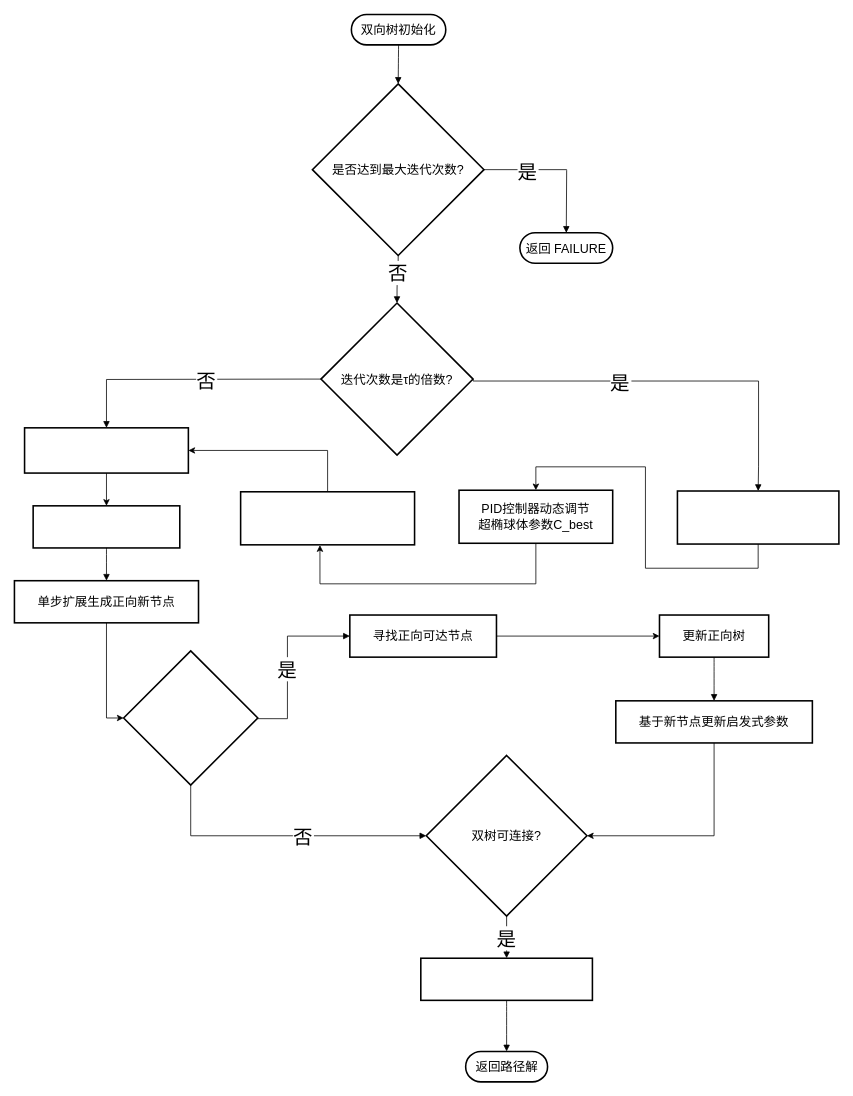
Some shapes in this 853 by 1096 pixel diagram are drawn without their labels. The centre of each missing label's shape, as x and y in pixels:
"动态更新汇合点Xmid" goes at [757,517].
"寻找正向最近节点" goes at [106,526].
"拼接路径并返回初始解" goes at [506,979].
"更新采样参数 （计算C_min、C_best）" goes at [327,518].
"正向路径无碰撞?" goes at [190,717].
"自适应双向超椭球体约束采样" goes at [106,450].
